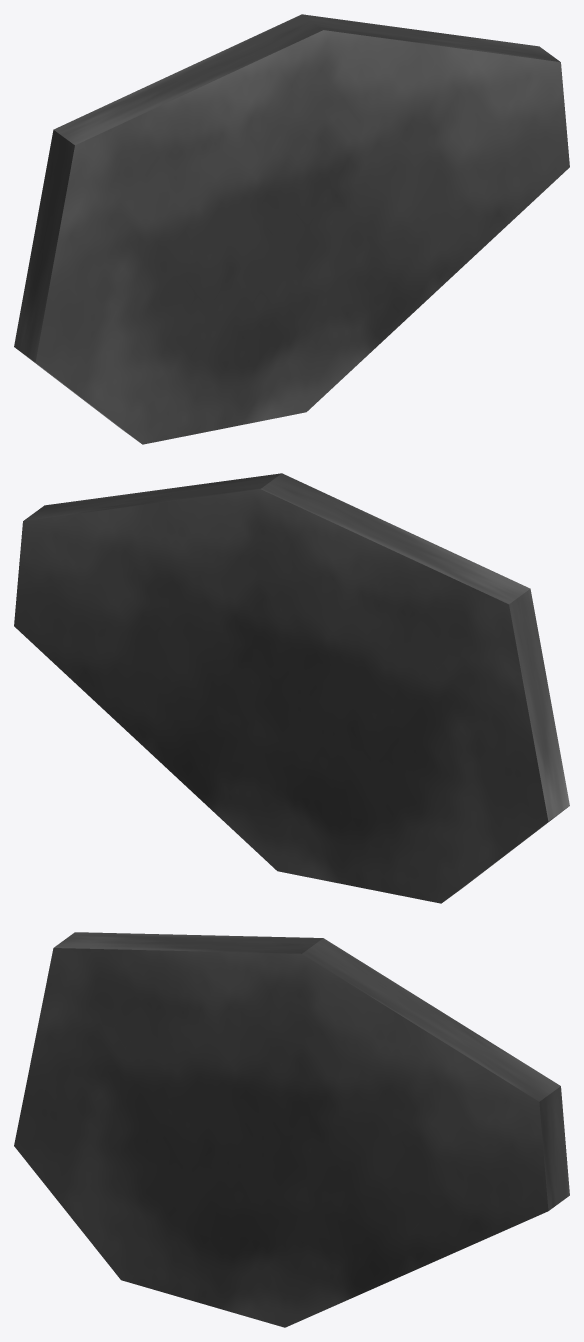
Rendered from IcePlate_01.fbx.
3 renders of one model, top to bottom at view 1: azimuth 30°, elevation 25°; view 2: azimuth 150°, elevation 25°; view 3: azimuth 330°, elevation 25°, orthographic.
Parts seen in each view (by area): view 1: Ice_plate_01; view 2: Ice_plate_01; view 3: Ice_plate_01.
Boxes of the visible parts, bbox=[...] form: Ice_plate_01: bbox=[14, 14, 569, 444]; Ice_plate_01: bbox=[14, 473, 569, 903]; Ice_plate_01: bbox=[14, 932, 569, 1327].
Bounding box in the file's own units: 11.98 × 8.1 × 0.8373.
1 material, 1 textured.
